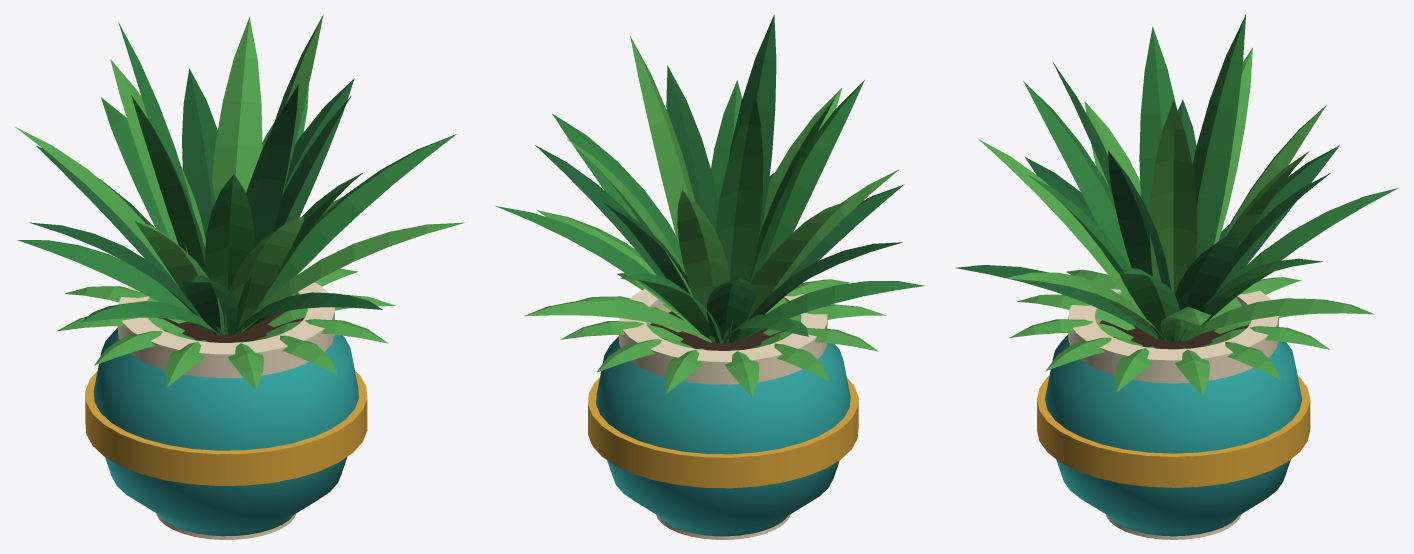
The model's file is planta-hojas-maceta.glb.
3 views of the same model, side by side, from view 1: azimuth 30°, elevation 25°; view 2: azimuth 150°, elevation 25°; view 3: azimuth 270°, elevation 25° (orthographic). The views are drawn at different scales.
Parts seen in each view (by area): view 1: Planta_Hojas_CeramicaTurquesa, Planta_Hojas_HojaAnchaClara, Planta_Hojas_HojaAncha, Planta_Hojas_HojaAnchaOscura, Planta_Hojas_BandaMostaza, Planta_Hojas_BordeCrema, Planta_Hojas_Tierra; view 2: Planta_Hojas_CeramicaTurquesa, Planta_Hojas_HojaAnchaClara, Planta_Hojas_HojaAncha, Planta_Hojas_HojaAnchaOscura, Planta_Hojas_BandaMostaza, Planta_Hojas_BordeCrema, Planta_Hojas_Tierra; view 3: Planta_Hojas_HojaAnchaClara, Planta_Hojas_CeramicaTurquesa, Planta_Hojas_HojaAncha, Planta_Hojas_HojaAnchaOscura, Planta_Hojas_BandaMostaza, Planta_Hojas_BordeCrema, Planta_Hojas_Tierra.
Boxes of the visible parts, left/top/right/bottom form: Planta_Hojas_CeramicaTurquesa: left=93, top=328, right=358, bottom=536; Planta_Hojas_HojaAnchaClara: left=15, top=15, right=464, bottom=390; Planta_Hojas_HojaAncha: left=17, top=22, right=456, bottom=335; Planta_Hojas_HojaAnchaOscura: left=29, top=68, right=382, bottom=335; Planta_Hojas_BandaMostaza: left=85, top=371, right=367, bottom=485; Planta_Hojas_BordeCrema: left=117, top=282, right=334, bottom=539; Planta_Hojas_Tierra: left=157, top=312, right=304, bottom=342; Planta_Hojas_CeramicaTurquesa: left=596, top=336, right=850, bottom=536; Planta_Hojas_HojaAnchaClara: left=524, top=36, right=899, bottom=396; Planta_Hojas_HojaAncha: left=495, top=80, right=924, bottom=343; Planta_Hojas_HojaAnchaOscura: left=535, top=15, right=904, bottom=343; Planta_Hojas_BandaMostaza: left=588, top=377, right=858, bottom=488; Planta_Hojas_BordeCrema: left=619, top=289, right=827, bottom=539; Planta_Hojas_Tierra: left=650, top=311, right=784, bottom=350; Planta_Hojas_HojaAnchaClara: left=978, top=47, right=1374, bottom=395; Planta_Hojas_CeramicaTurquesa: left=1045, top=334, right=1302, bottom=536; Planta_Hojas_HojaAncha: left=1023, top=15, right=1398, bottom=341; Planta_Hojas_HojaAnchaOscura: left=955, top=62, right=1339, bottom=341; Planta_Hojas_BandaMostaza: left=1037, top=375, right=1310, bottom=487; Planta_Hojas_BordeCrema: left=1068, top=288, right=1278, bottom=539; Planta_Hojas_Tierra: left=1099, top=320, right=1248, bottom=349.
Bounding box in the file's own units: 0.879 × 1.01 × 0.8794.
